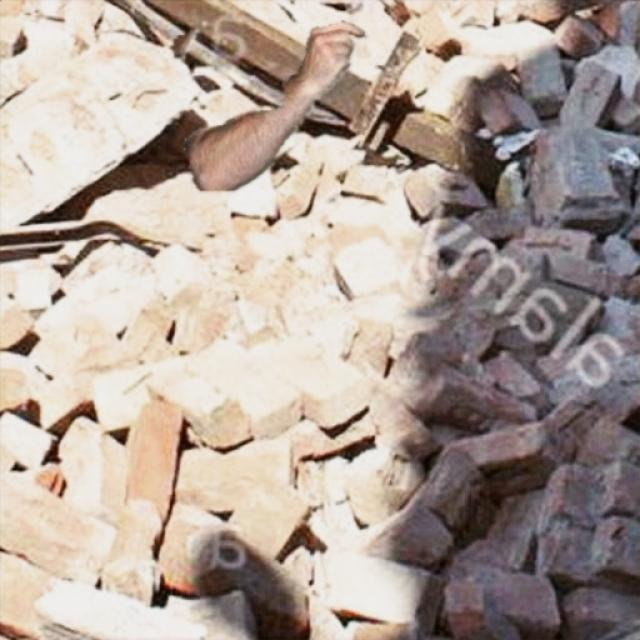Person in Rubble: (174, 20, 365, 190)
